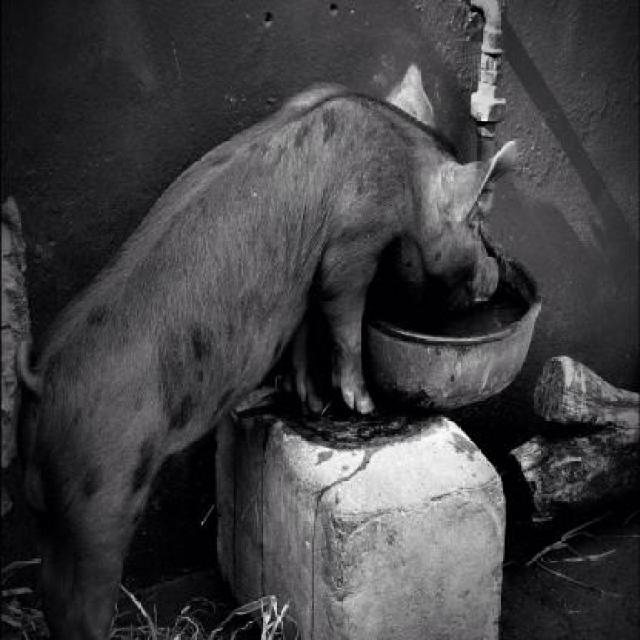pig: (15, 61, 520, 640)
